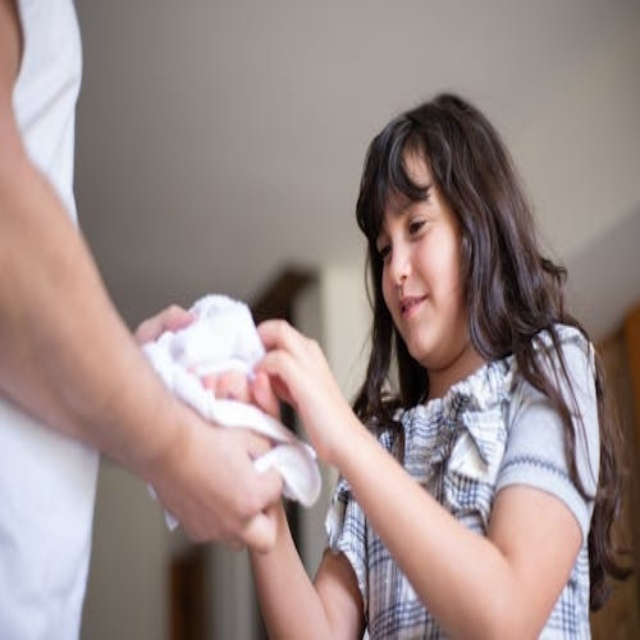Sin_gafas: (369, 188, 436, 268)
Sin_guantes: (141, 381, 301, 554), (248, 299, 351, 454)
Sin_mascara: (389, 276, 439, 358)
